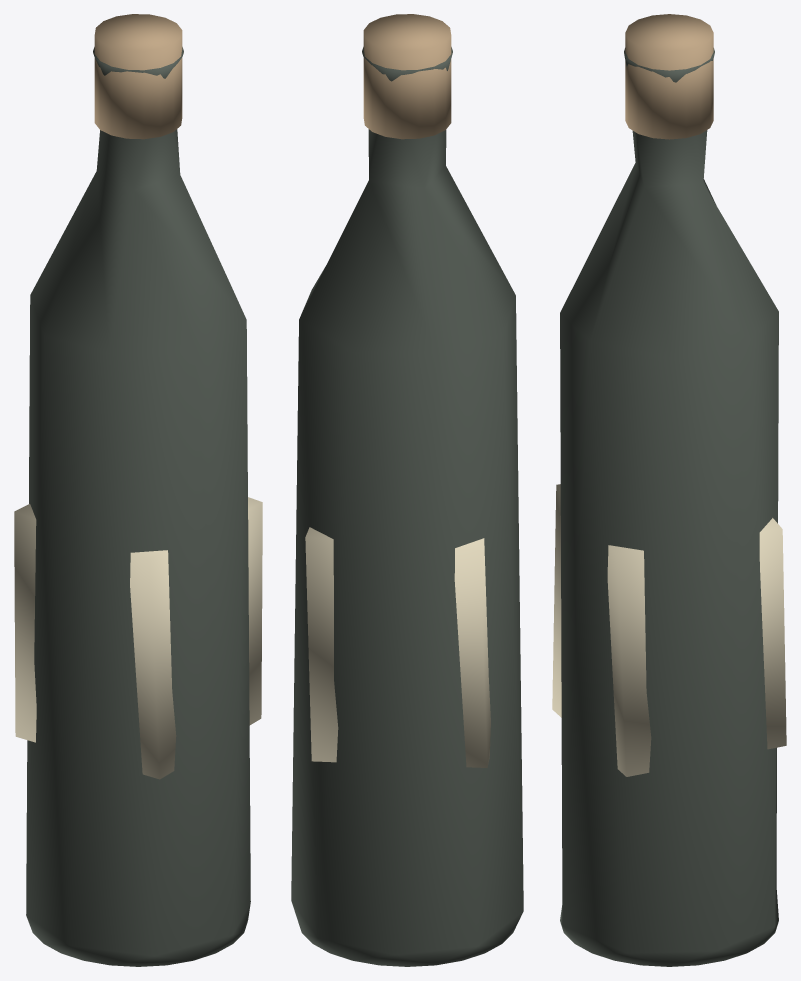
Rendered from bottle_wine.glb.
3 renders of one model, left to right at view 1: azimuth 30°, elevation 25°; view 2: azimuth 150°, elevation 25°; view 3: azimuth 270°, elevation 25°, orthographic.
Parts seen in each view (by area): view 1: bottle_wine; view 2: bottle_wine; view 3: bottle_wine.
Boxes of the visible parts, <box> form: bottle_wine: <box>14,14,262,966</box>; bottle_wine: <box>291,14,523,966</box>; bottle_wine: <box>552,14,786,966</box>.
Bounding box in the file's own units: 0.077 × 0.322 × 0.077.
